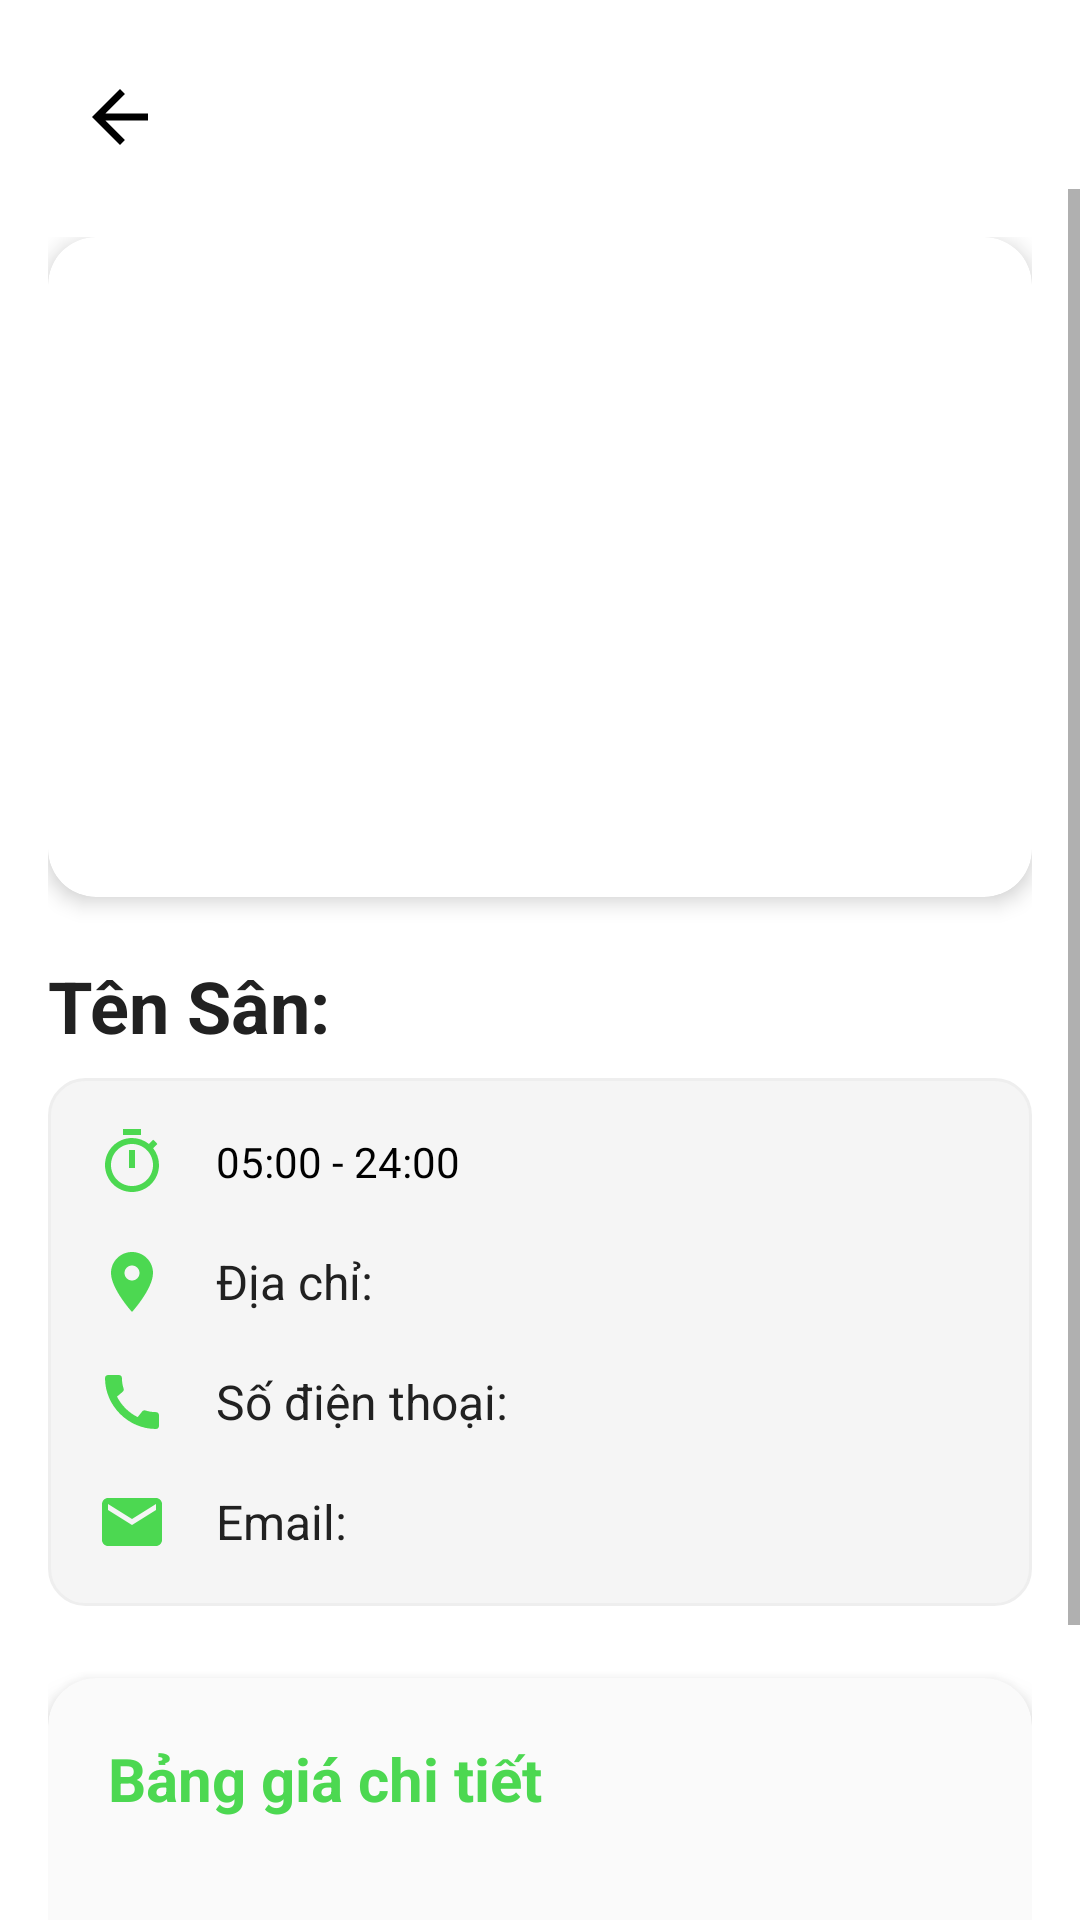

Locate icon controls on the screen. Image size 1080x1920, boxes as (x1,y1,x2,y2).
duration: (105,1129,159,1192)
location: (111,1252,153,1312)
phone: (105,1375,159,1429)
Quay lại: (92,89,148,145)
